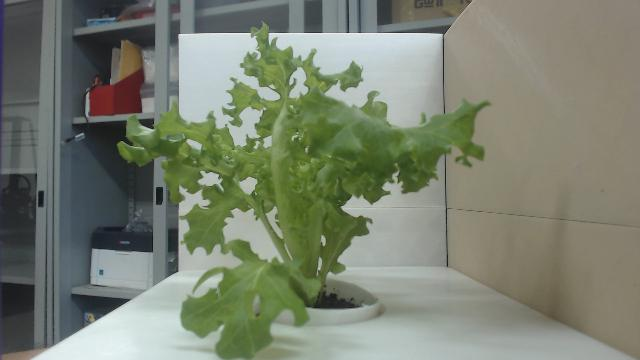Harvest Stage: (116, 20, 490, 360)
